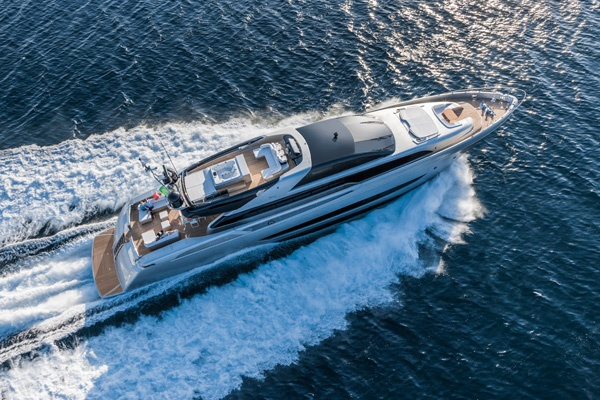yacht: (75, 81, 526, 300)
